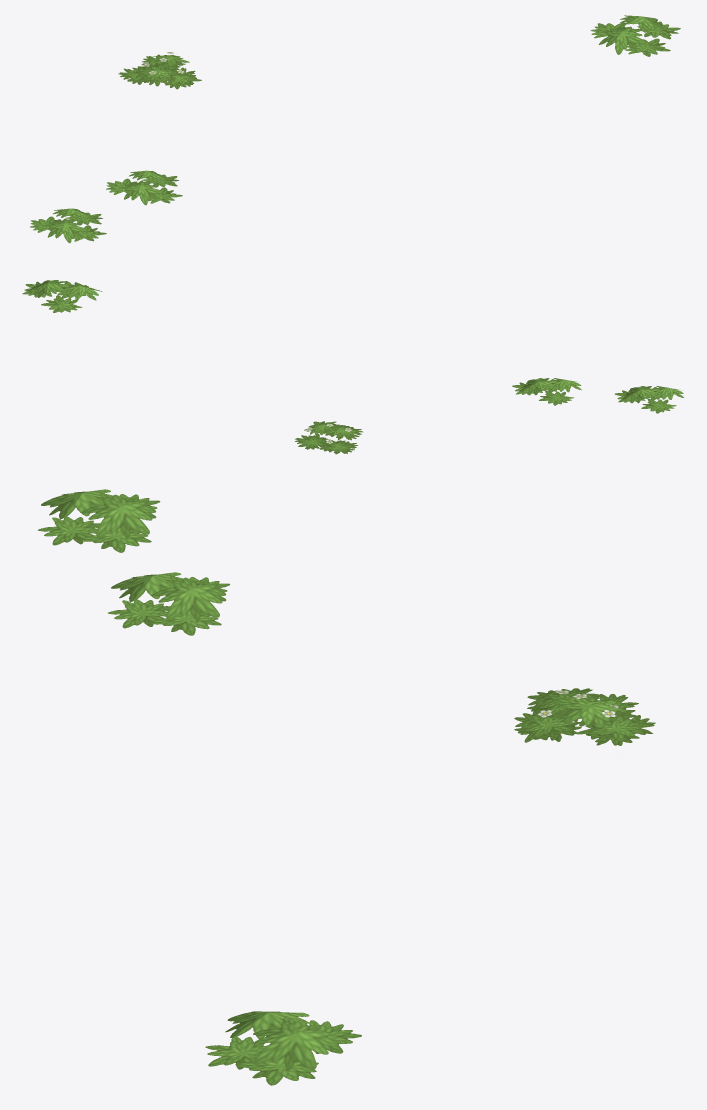
Rendered from Area_07_21.fbx.
3 renders of one model, top to bottom at view 1: azimuth 30°, elevation 25°; view 2: azimuth 150°, elevation 25°; view 3: azimuth 270°, elevation 25°, orthographic. The views are drawn at different scales.
Visible parts, largest first — view 1: Area_07_21; view 2: Area_07_21; view 3: Area_07_21.
Part boxes in pixels (x1=…): Area_07_21: x1=30, y1=15, x2=680, y2=243; Area_07_21: x1=22, y1=280, x2=683, y2=454; Area_07_21: x1=38, y1=489, x2=655, y2=1085.
Size of the model in its own units: 2802 by 81.83 by 1238.
